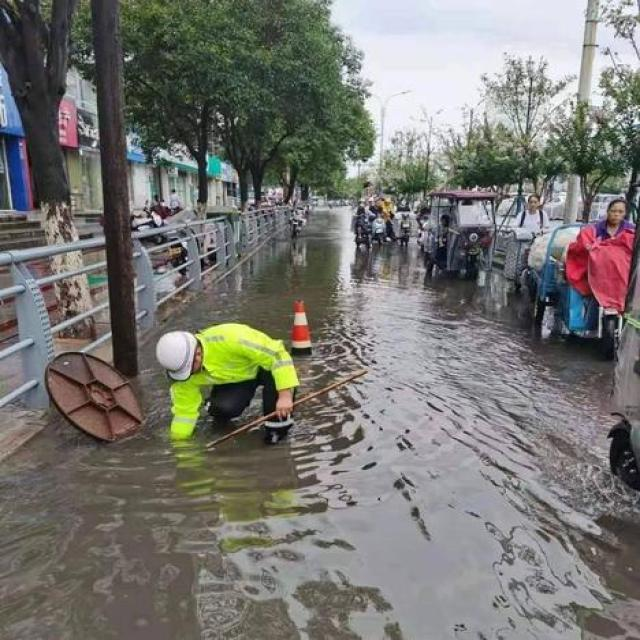rescuer: (145, 304, 320, 460)
